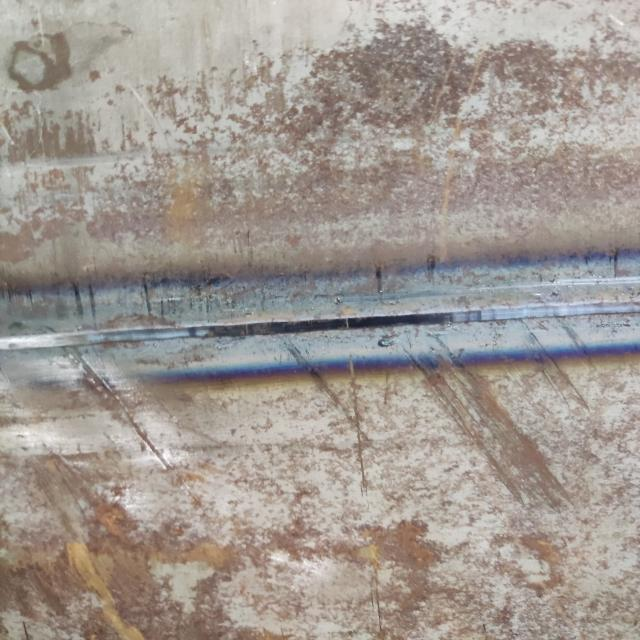seam: (2, 238, 640, 412)
